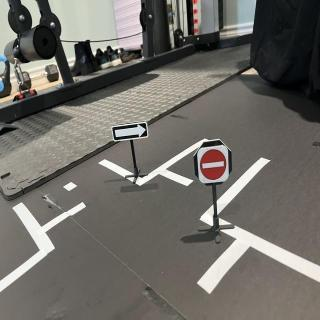sign_noentry: (198, 149, 230, 184)
sign_oneway_right: (113, 121, 150, 143)
